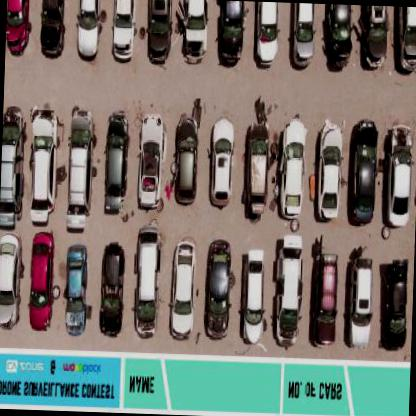car: (271, 232, 303, 350), (29, 108, 58, 228), (132, 224, 162, 338), (67, 113, 95, 234), (348, 120, 379, 227), (0, 106, 26, 228), (310, 250, 340, 349), (204, 240, 232, 341), (170, 238, 198, 338), (346, 256, 376, 348), (243, 121, 271, 217), (102, 112, 128, 215), (172, 114, 200, 208), (389, 126, 414, 228), (100, 242, 126, 339), (242, 247, 268, 344), (29, 233, 55, 330), (139, 112, 164, 210), (381, 260, 408, 350), (282, 120, 306, 221), (64, 245, 90, 335), (319, 125, 343, 222), (0, 233, 24, 329), (211, 116, 235, 210), (145, 0, 176, 65), (217, 2, 248, 66), (75, 0, 107, 62), (323, 5, 354, 69), (254, 2, 283, 70), (180, 0, 210, 64), (359, 6, 388, 70), (290, 4, 319, 67), (39, 0, 70, 58), (111, 0, 138, 62), (6, 0, 35, 57), (396, 7, 415, 73)
